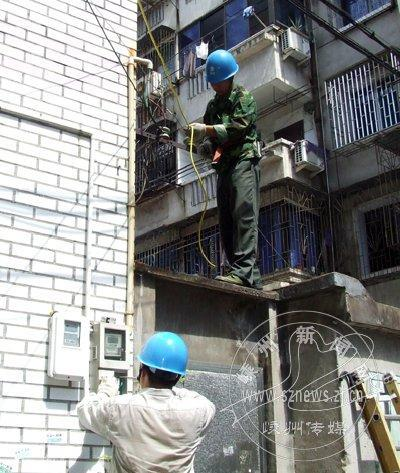helmet: (131, 328, 194, 399), (204, 47, 241, 96)
